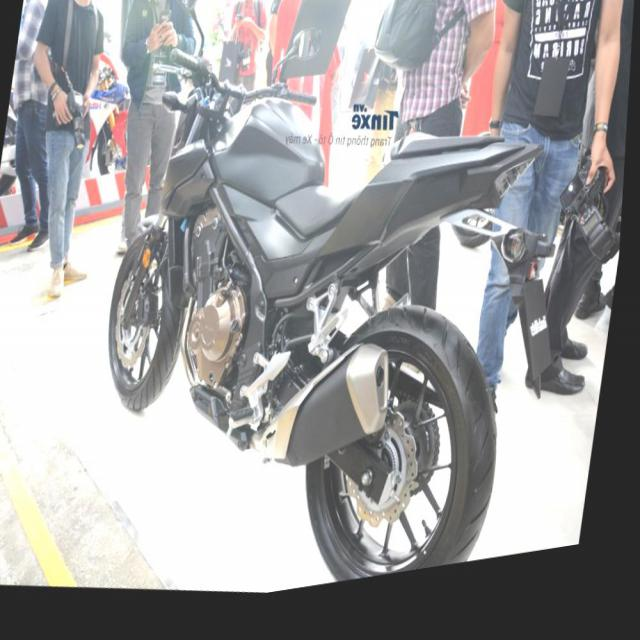CB500F: (74, 6, 560, 626)
